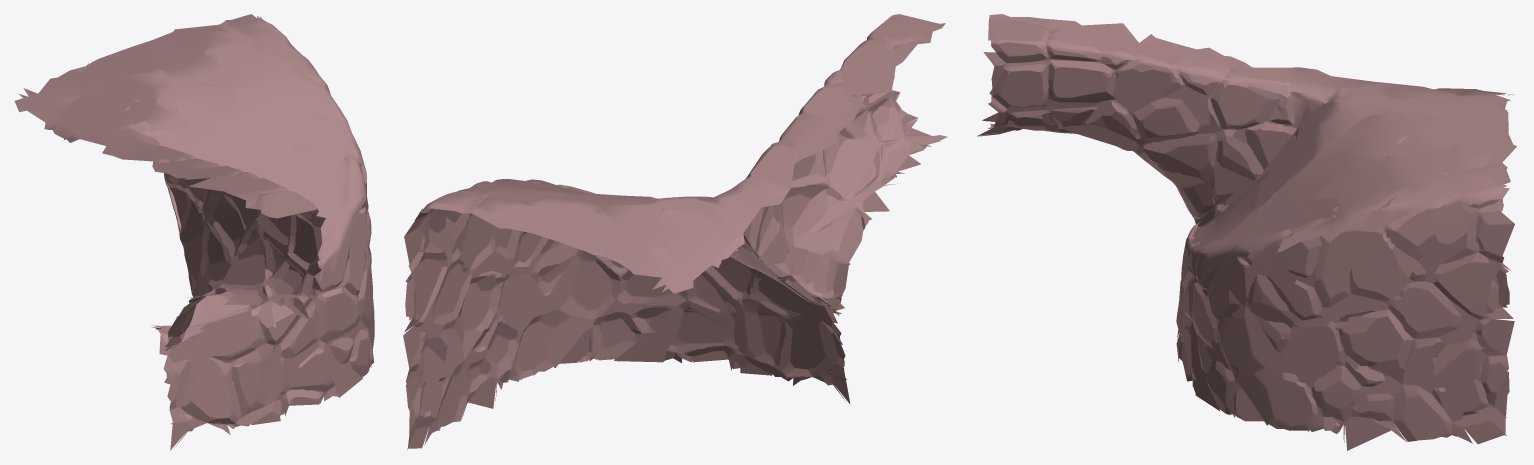
Rendered from mini_canyon.fbx_Cube__12_LODs.fbx.
The picture shows the model from 3 angles, left to right: view 1: azimuth 30°, elevation 25°; view 2: azimuth 150°, elevation 25°; view 3: azimuth 270°, elevation 25°; orthographic projection. The views are drawn at different scales.
Parts seen in each view (by area): view 1: Cube (12)_LOD0; view 2: Cube (12)_LOD0; view 3: Cube (12)_LOD0.
Part boxes in pixels (box(x1,y1,x2,y2)): Cube (12)_LOD0: box(14, 14, 374, 450); Cube (12)_LOD0: box(403, 14, 947, 449); Cube (12)_LOD0: box(977, 14, 1516, 450).
Size of what is drawn, in the model's own units: 5271 by 5496 by 8776.
